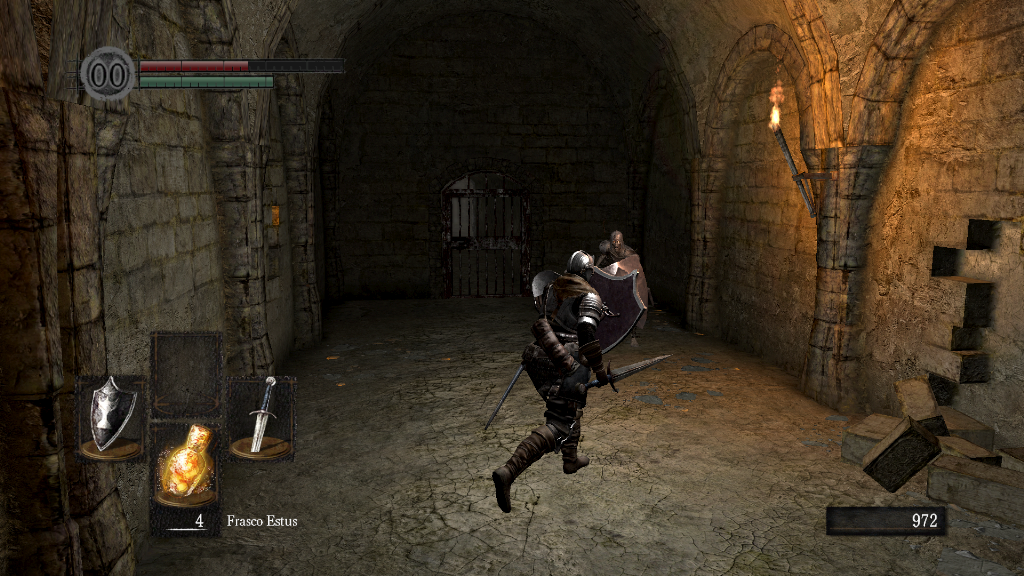health: (138, 58, 343, 71)
humanity: (80, 45, 136, 102)
player: (482, 249, 671, 516)
souls: (825, 506, 945, 536)
stamina: (138, 74, 274, 88)
undeadSoldier: (584, 229, 651, 357)
